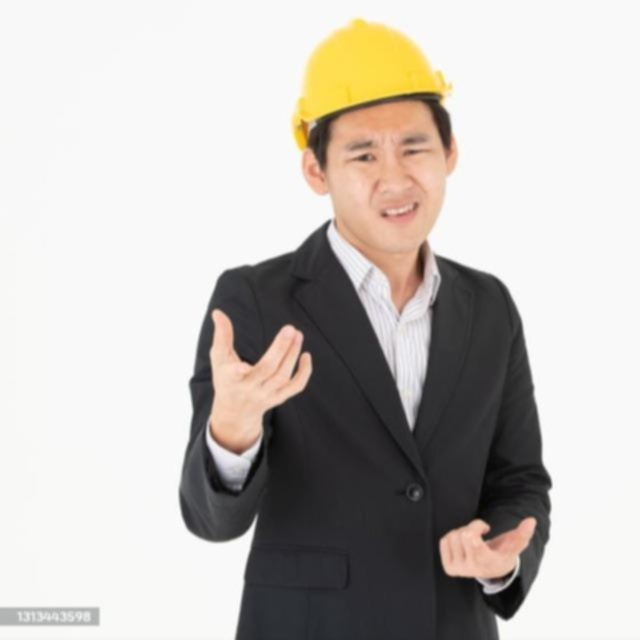Con_Casco: (290, 20, 463, 253)
Sin_Chaleco: (211, 246, 525, 632)
